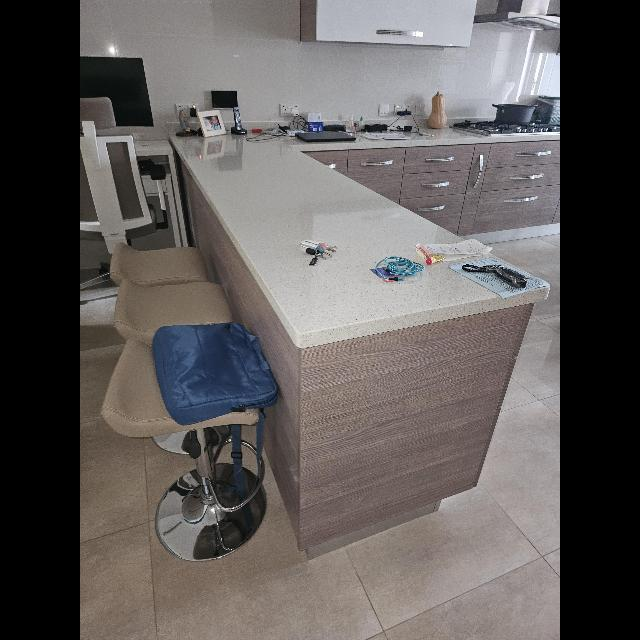Keys: (305, 242, 337, 266)
